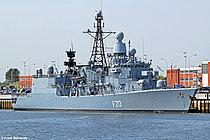MIL_Ship: (9, 9, 199, 113)
